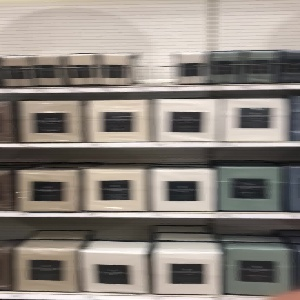void: (131, 3, 177, 86)
